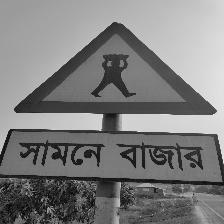Market-in-front: (4, 22, 224, 183)
